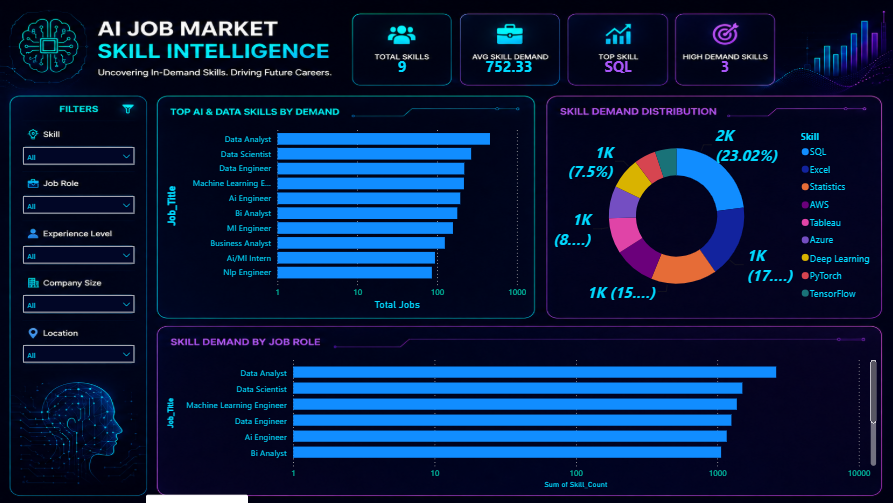

This screenshot's page, from the dashboard's own definition file:
{"tool":"powerbi","page":{"name":"Skill Intelligence","canvas":[1280,720],"ordinal":1},"visuals":[{"type":"clusteredBarChart","title":"TOP AI & DATA SKILLS BY DEMAND","fields":{"Category":["ai_job_market job_market.Job_Title"],"Y":["ai_job_market job_market.Total Jobs"]},"box":[233.3,168.3,525,280],"z":0},{"type":"card","fields":{"Values":["Skill Table.Total Skills"]},"box":[511.2,73.5,128.8,45.3],"z":1000},{"type":"card","fields":{"Values":["Skill Table.Avg Skill Demand"]},"box":[664.7,73.5,128.8,45.3],"z":2000},{"type":"card","fields":{"Values":["Skill Table.Top Skill"]},"box":[820,73.5,128.8,45.3],"z":3000},{"type":"card","fields":{"Values":["Skill Table.High Demand Skills"]},"box":[973.3,73.3,128.8,45.3],"z":4000},{"type":"donutChart","fields":{"Category":["Skill Table.Skill"],"Y":["Skill Table.Skill Demand"]},"box":[785,168.8,472.5,280],"z":5000},{"type":"barChart","fields":{"Y":["Sum(ai_job_market job_market.Skill_Count)"],"Category":["ai_job_market job_market.Job_Title"]},"box":[234,502,1024,202],"z":6000},{"type":"slicer","fields":{"Values":["Skill Table.Skill"]},"box":[24.4,200,179.4,46.9],"z":7000},{"type":"slicer","fields":{"Values":["ai_job_market job_market.Job_Title"]},"box":[24.4,269.4,179.4,46.9],"z":8000},{"type":"slicer","fields":{"Values":["ai_job_market job_market.Experience_Level"]},"box":[24.4,341.7,179.4,46.9],"z":9000},{"type":"slicer","fields":{"Values":["ai_job_market job_market.Company_Size"]},"box":[24.4,411.7,179.4,46.9],"z":10000},{"type":"slicer","fields":{"Values":["ai_job_market job_market.Location"]},"box":[24.4,483.3,179.4,46.9],"z":11000}]}

Visuals, with their boxes in screenshot pixels (x1, y1, x2, y2), scaled from the page's 1280x720 canvas onto the 893x503 screenshot:
"TOP AI & DATA SKILLS BY DEMAND" clusteredBarChart: <region>163, 118, 529, 313</region>
card - Skill Table.Total Skills: <region>357, 51, 446, 83</region>
card - Skill Table.Avg Skill Demand: <region>464, 51, 554, 83</region>
card - Skill Table.Top Skill: <region>572, 51, 662, 83</region>
card - Skill Table.High Demand Skills: <region>679, 51, 769, 83</region>
donutChart - Skill Table.Skill x Skill Table.Skill Demand: <region>548, 118, 877, 314</region>
barChart - Sum(ai_job_market job_market.Skill_Count) x ai_job_market job_market.Job_Title: <region>163, 351, 878, 492</region>
slicer - Skill Table.Skill: <region>17, 140, 142, 172</region>
slicer - ai_job_market job_market.Job_Title: <region>17, 188, 142, 221</region>
slicer - ai_job_market job_market.Experience_Level: <region>17, 239, 142, 271</region>
slicer - ai_job_market job_market.Company_Size: <region>17, 288, 142, 320</region>
slicer - ai_job_market job_market.Location: <region>17, 338, 142, 370</region>
